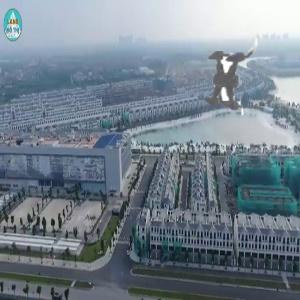drone: (152, 11, 299, 158)
